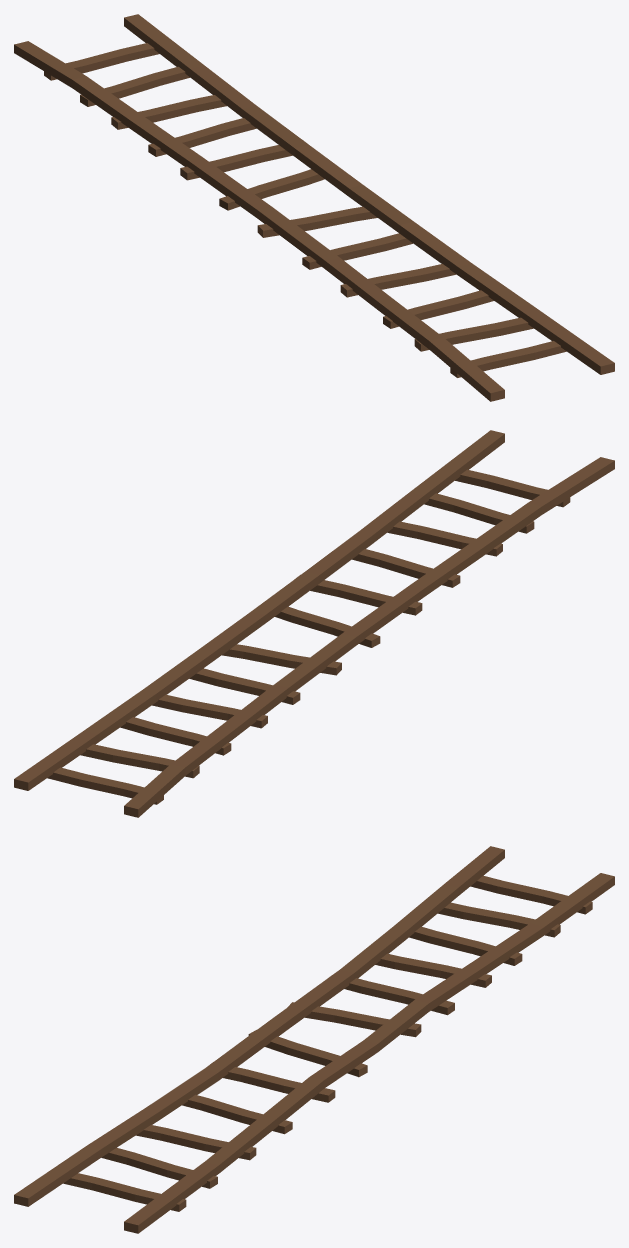
File: Ladder_01_towerHigh.fbx
3 views of the same model, one above another, from view 1: azimuth 30°, elevation 25°; view 2: azimuth 150°, elevation 25°; view 3: azimuth 330°, elevation 25° (orthographic).
Parts seen in each view (by area): view 1: Ladder 1 tour grand; view 2: Ladder 1 tour grand; view 3: Ladder 1 tour grand.
Boxes of the visible parts, bbox=[...] form: Ladder 1 tour grand: bbox=[14, 14, 614, 401]; Ladder 1 tour grand: bbox=[14, 430, 614, 817]; Ladder 1 tour grand: bbox=[14, 846, 614, 1233].
Bounding box in the file's own units: 63.19 × 7.83 × 412.
